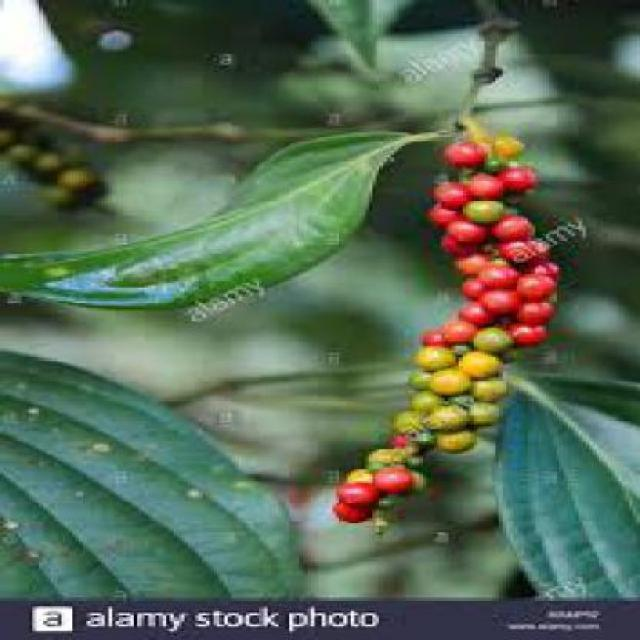RIPE: (322, 122, 568, 546)
